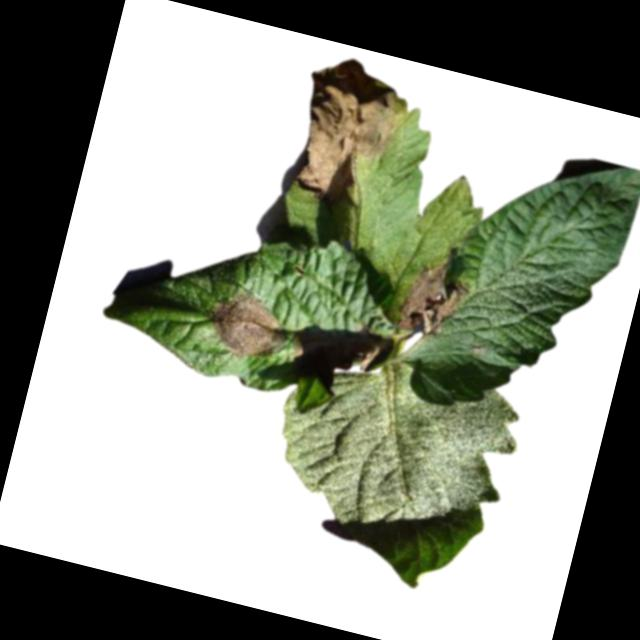Late_blight: (281, 49, 421, 215), (198, 282, 296, 367), (392, 253, 476, 346), (352, 340, 378, 375), (288, 335, 307, 358)
healthy: (246, 338, 529, 605)
